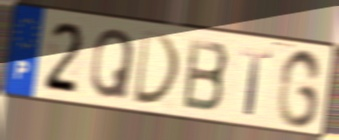2: (39, 20, 88, 97)
B: (180, 36, 231, 115)
D: (131, 28, 184, 108)
G: (274, 47, 325, 130)
Q: (88, 26, 137, 102)
T: (240, 45, 274, 118)
